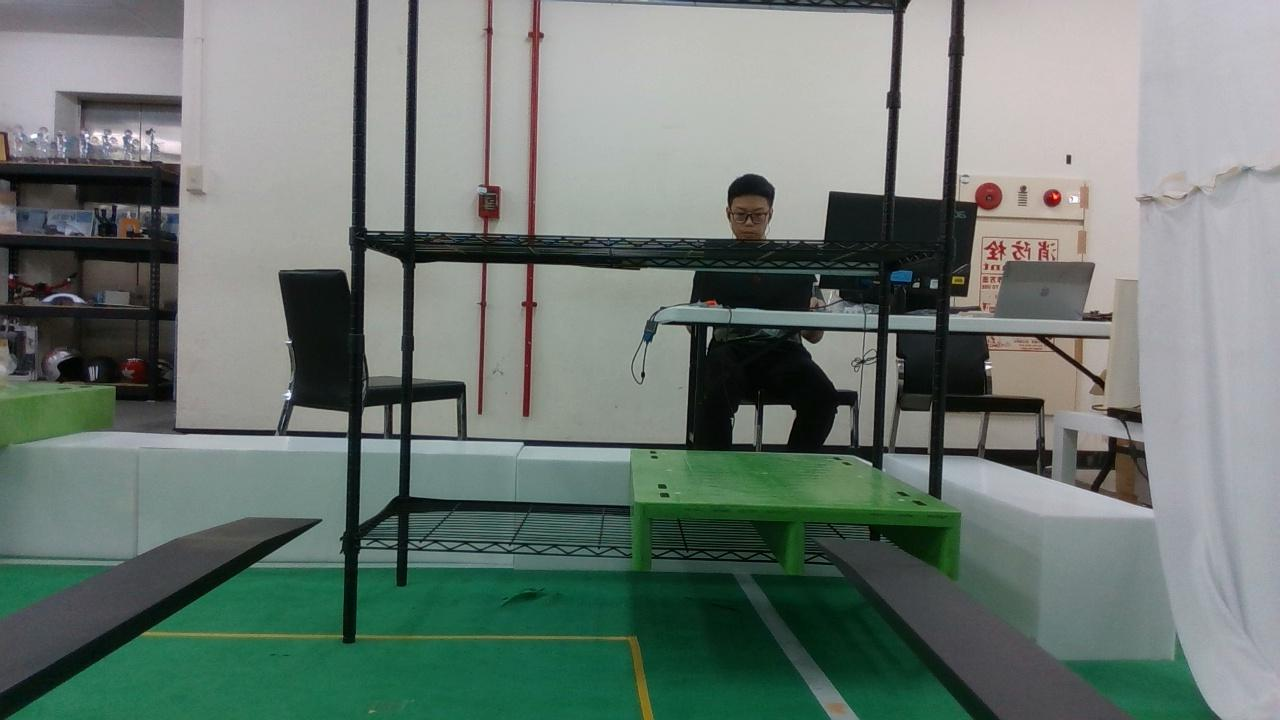Pallet: (633, 503, 966, 586)
